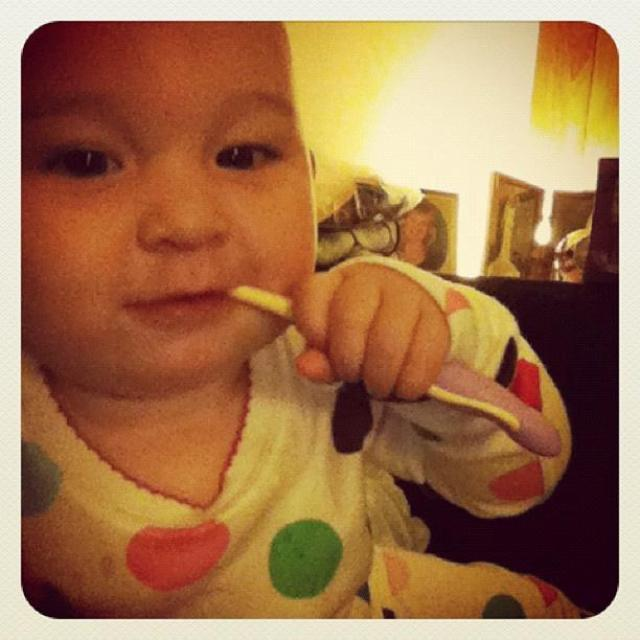toothbrush: (225, 284, 560, 458)
